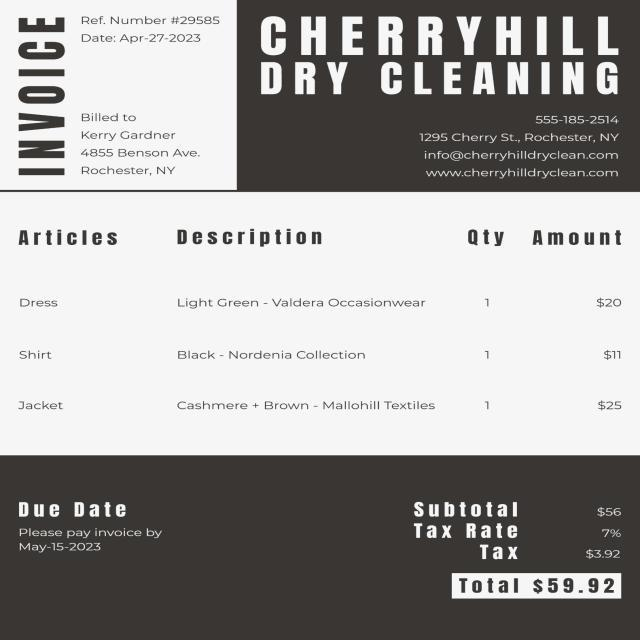ROI: (8, 215, 638, 436), (245, 2, 626, 104), (404, 492, 634, 610), (413, 116, 628, 182), (5, 494, 174, 568), (0, 6, 70, 180), (75, 108, 206, 186), (75, 8, 239, 51)
